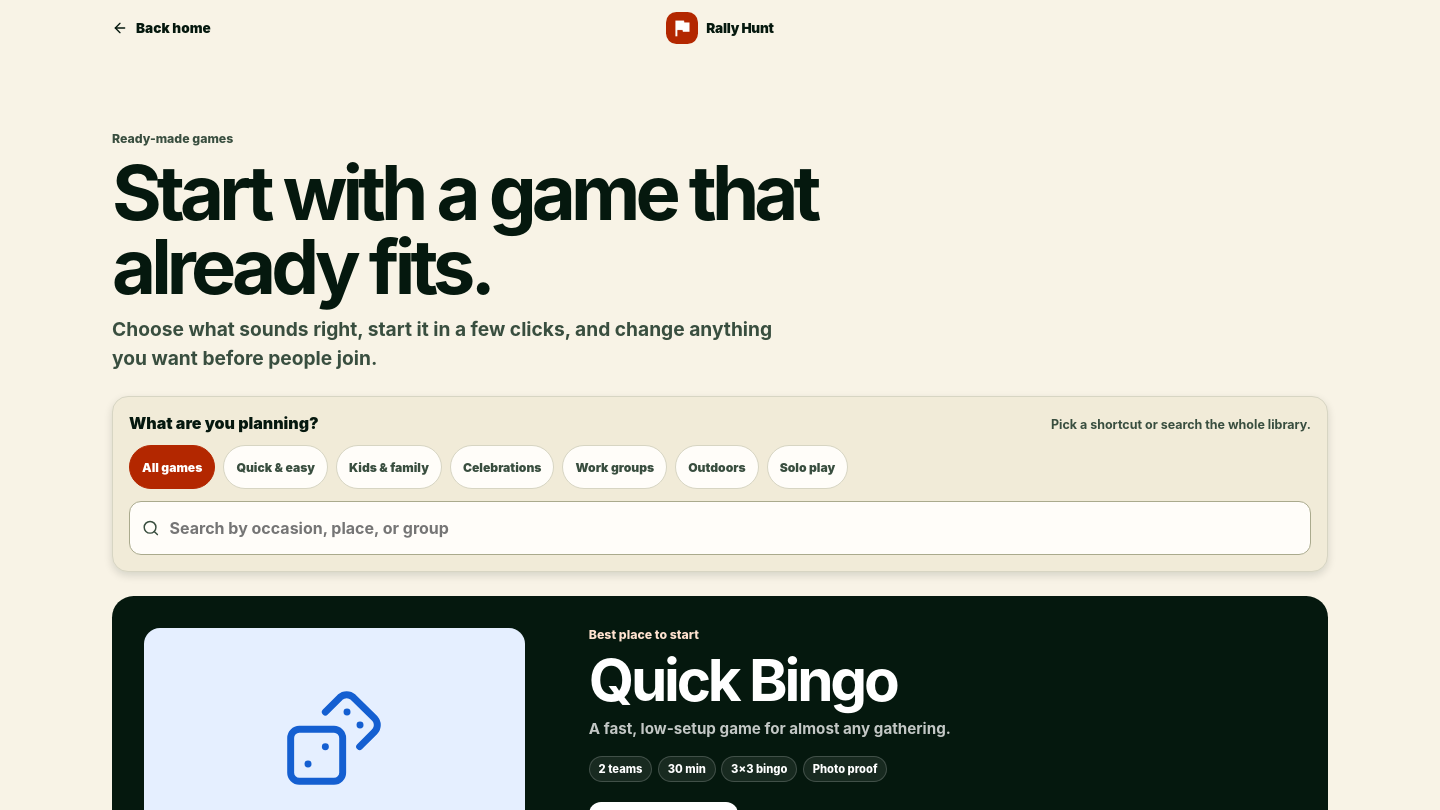
it: public page accessibility › lets people match and start a template without opening every preview
The width and height of the screenshot is (1440, 810).
Check: the heading "Start with a game that already fits." is shown, box [112,146,816,312]
Click the button "Kids & family" at (389, 468), box [336,446,442,490]
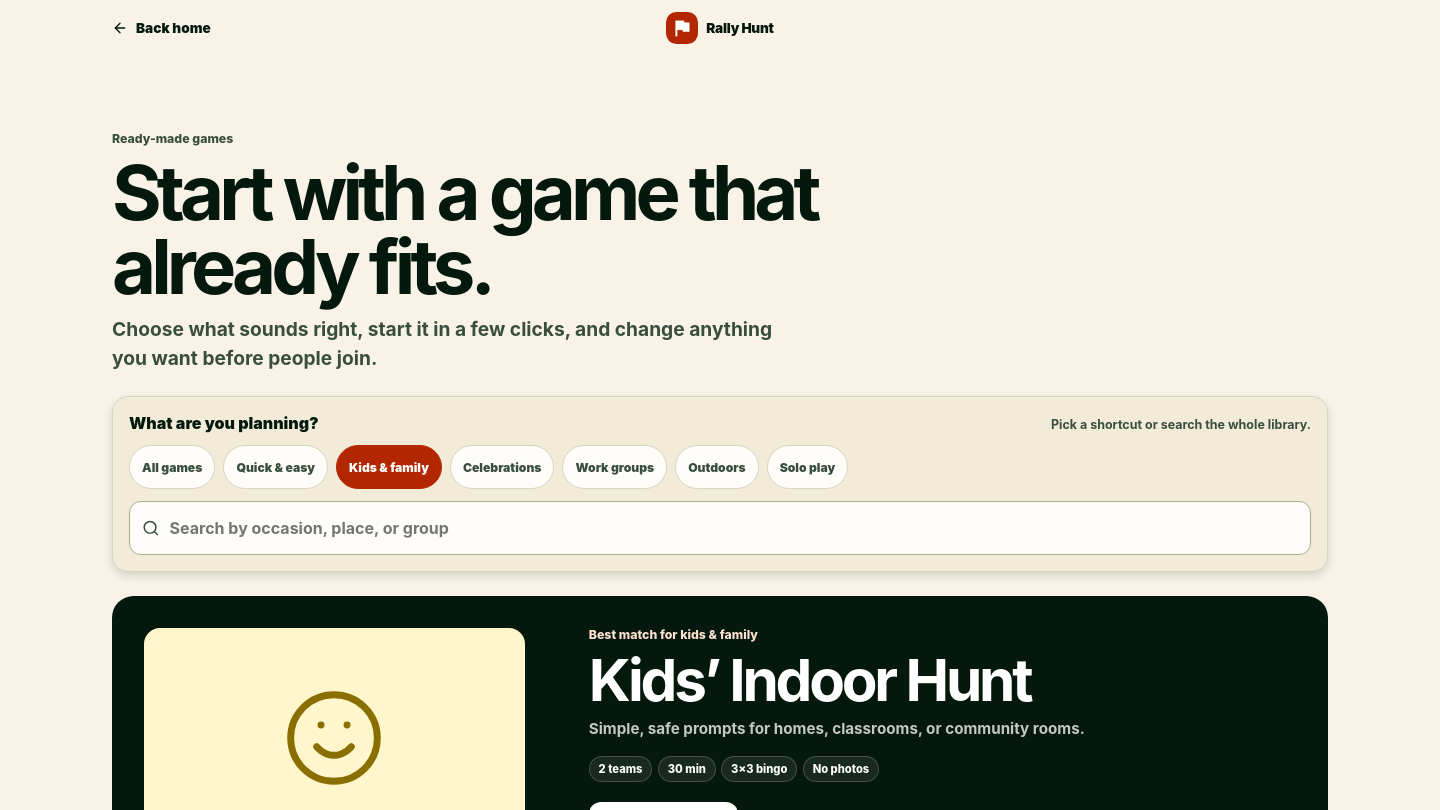
Check: the heading "Kids’ Indoor Hunt" is shown, box [589,644,1030,715]
Check: the heading "Quick Bingo" is gone
Click the button "All games" at (172, 468), box [129,446,215,490]
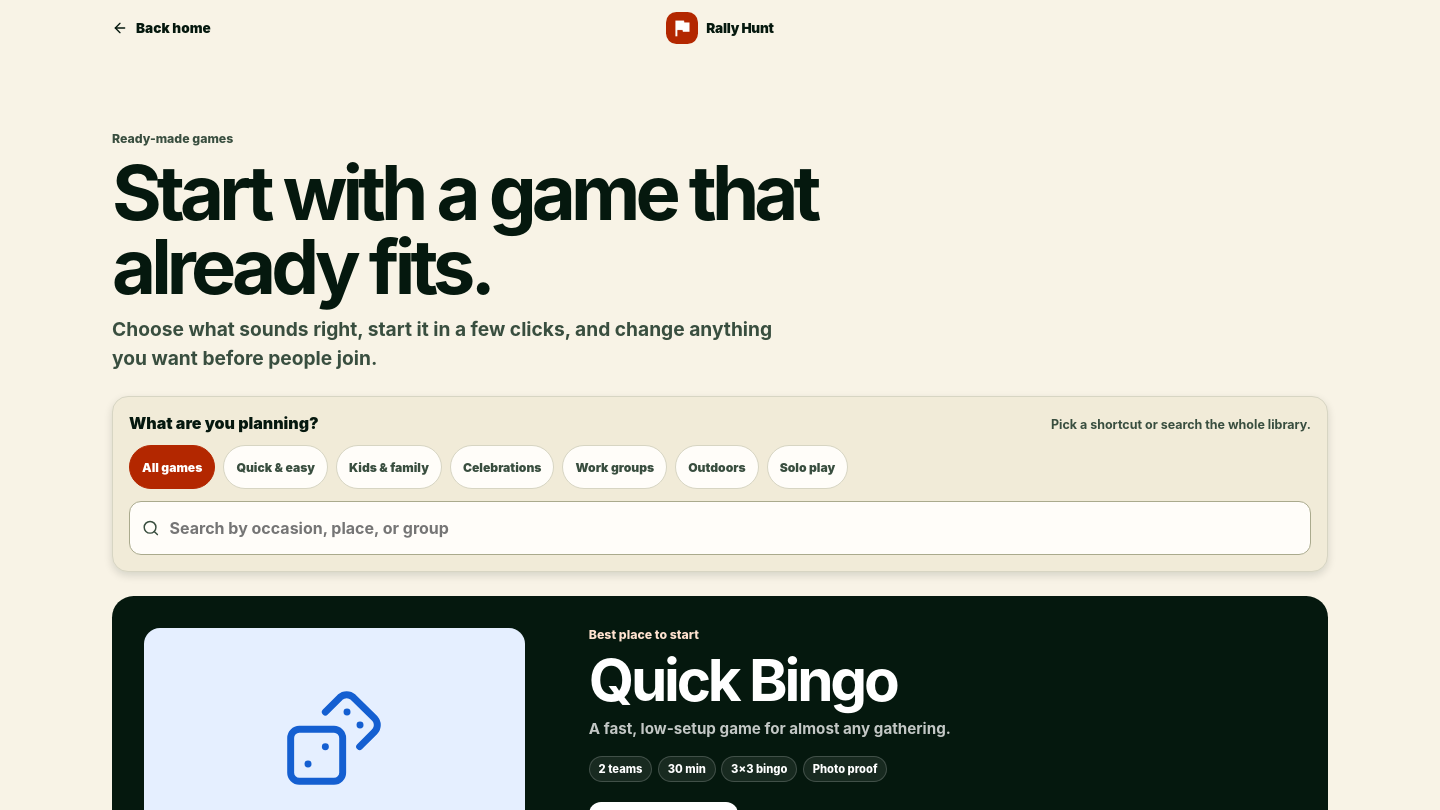
Type "team-building" into the search field named "Search templates" at (733, 528), box [168,502,1298,554]
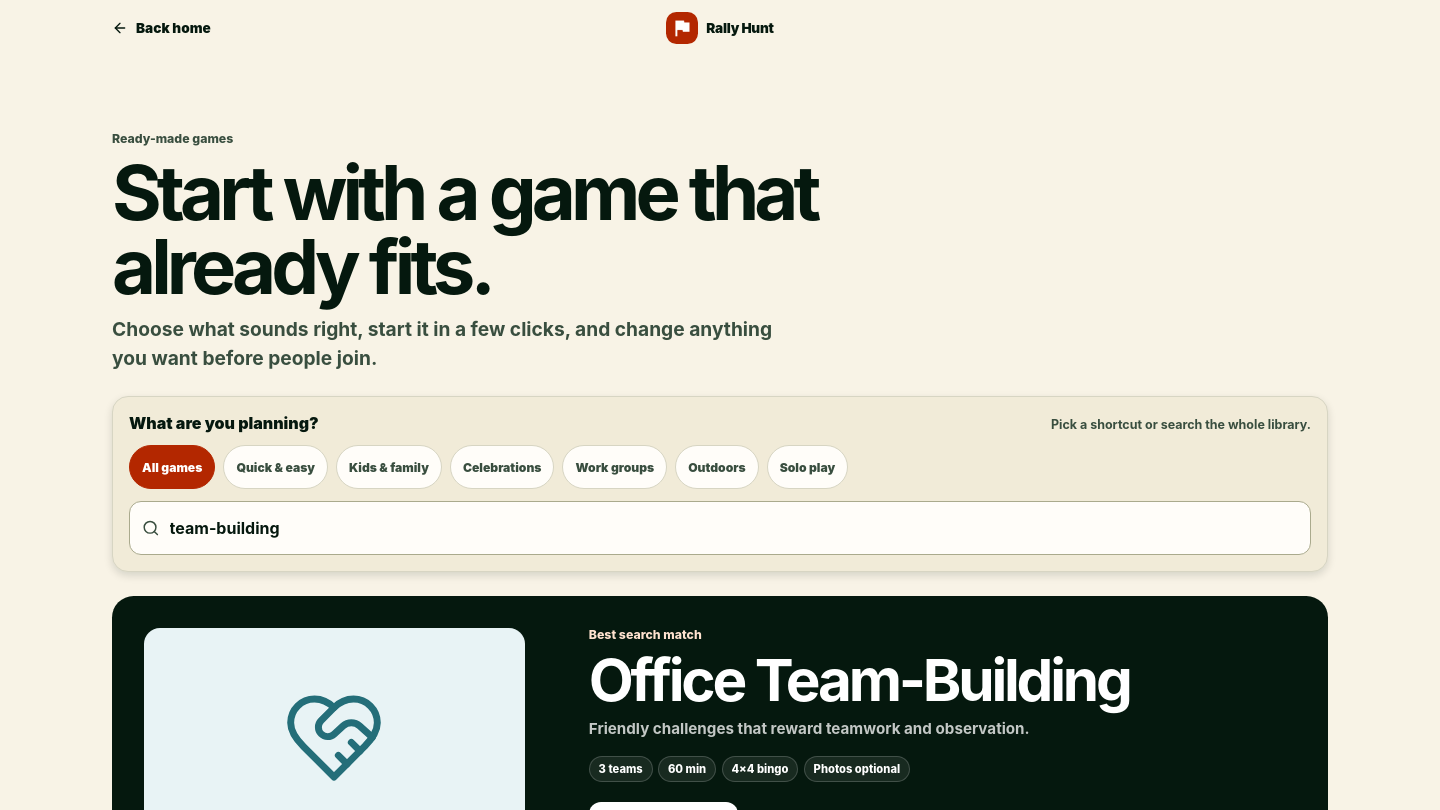
Check: the heading "Office Team-Building" is shown, box [589,644,1130,715]
Replace the text in the search field named "Search templates" with "not-a-real-template" at (733, 528), box [168,502,1298,554]
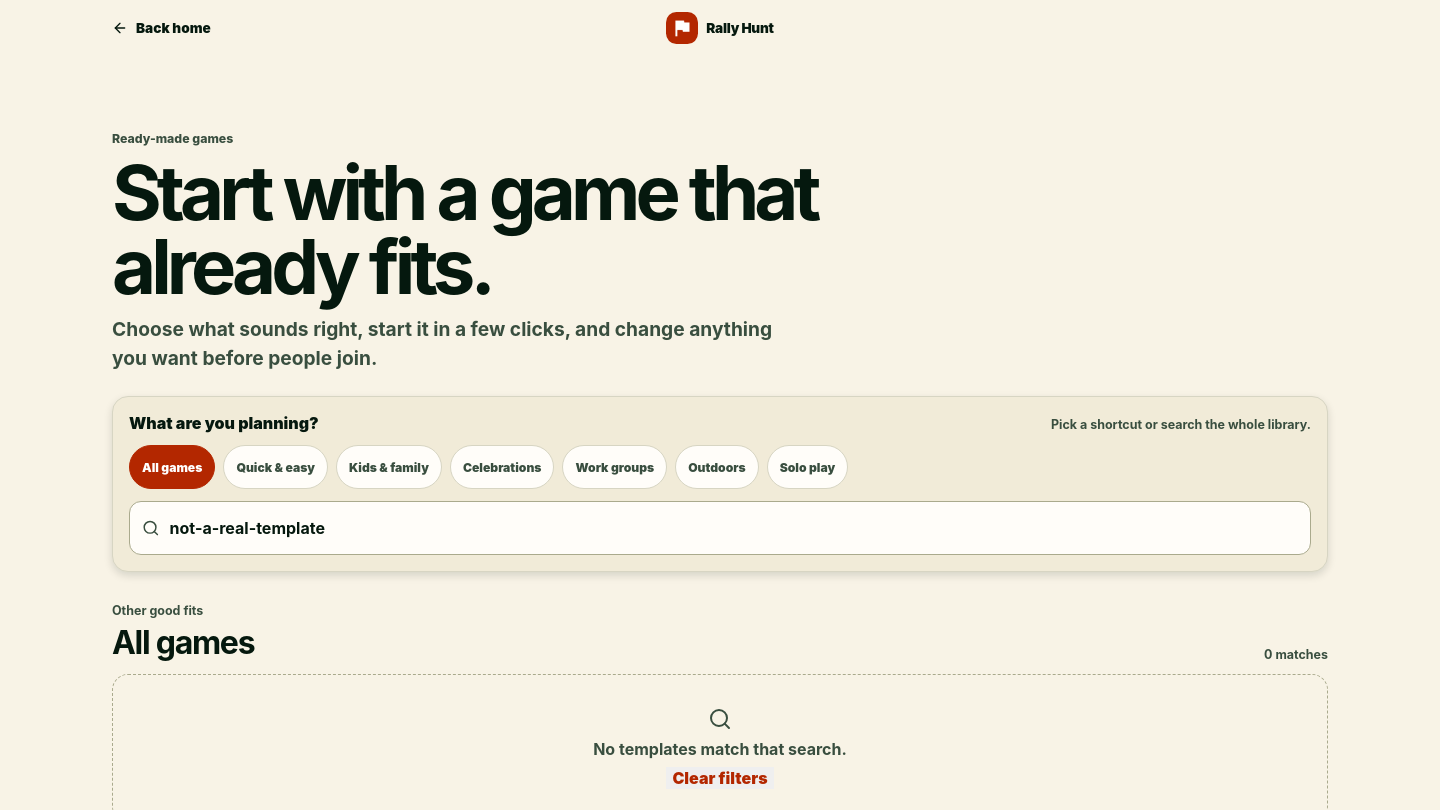
Check: the text "No templates match that search." is shown, box [593,739,847,759]
Click the button "Clear filters" at (720, 778), box [666,767,774,789]
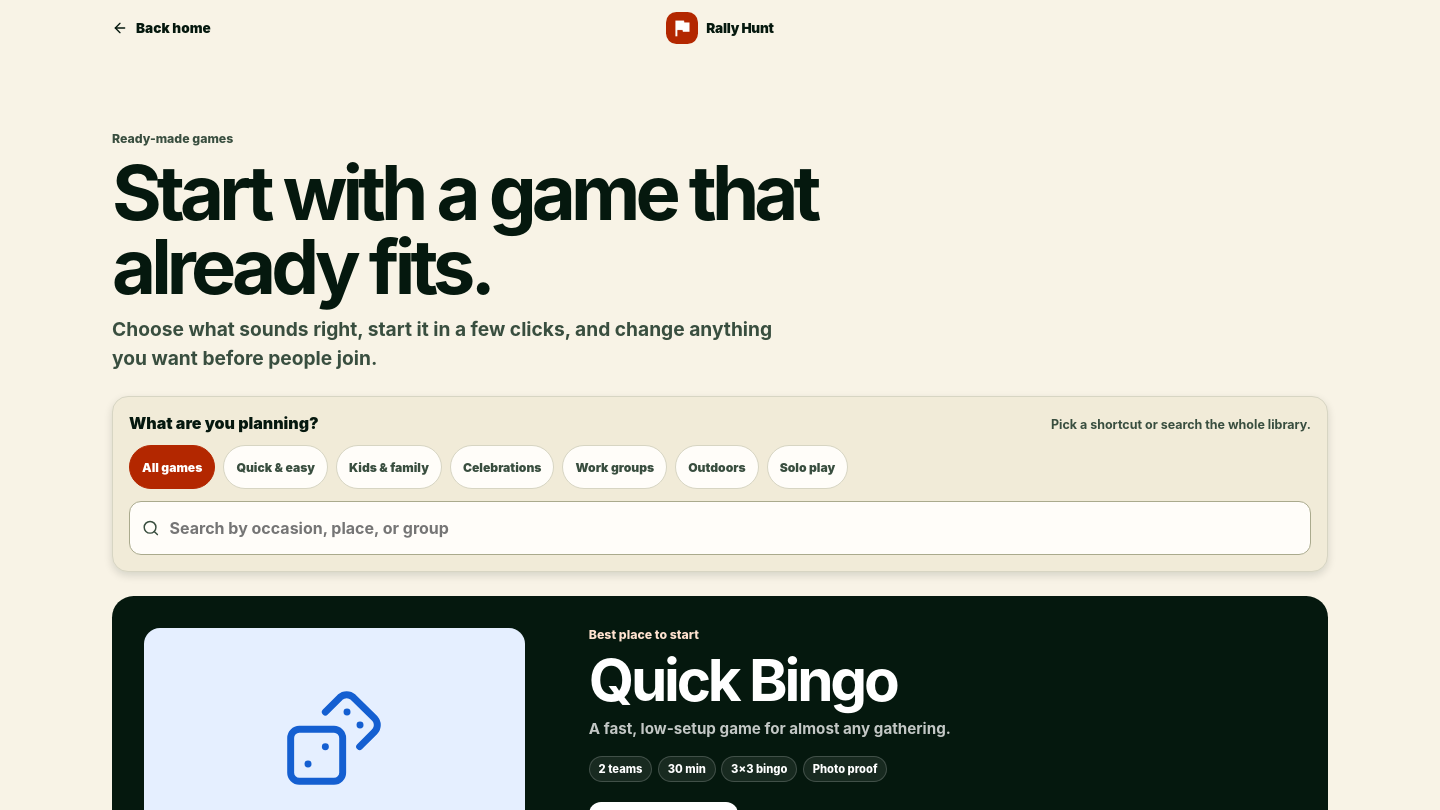
Check: the heading "Quick Bingo" is shown, box [589,644,897,715]
